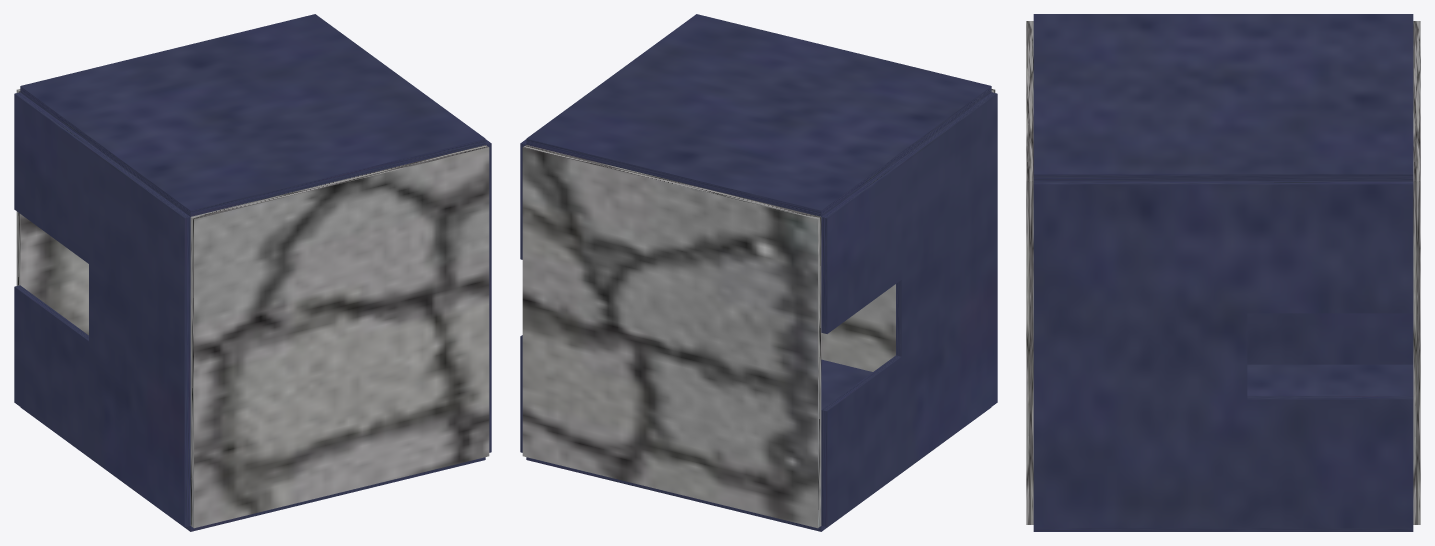
File: procedural-mimitasizing5-infdgnslr-v4.glb
3 views of the same model, side by side, from view 1: azimuth 30°, elevation 25°; view 2: azimuth 150°, elevation 25°; view 3: azimuth 270°, elevation 25° (orthographic). The views are drawn at different scales.
Parts seen in each view (by area): view 1: floor.001, wallPositiveY, wallNegativeX, floor, wallNegativeY, wallNegativeX.001; view 2: floor, wallPositiveY, wallNegativeX, floor.001, wallNegativeY, wallNegativeX.001; view 3: wallNegativeX.001, wallPositiveY, wallNegativeX, wallNegativeY, floor, floor.001.
Boxes of the visible parts, <box> form: floor.001: <box>190,145,489,528</box>; wallPositiveY: <box>20,14,485,216</box>; wallNegativeX: <box>14,92,190,526</box>; floor: <box>16,89,88,335</box>; wallNegativeY: <box>20,407,485,531</box>; wallNegativeX.001: <box>485,139,491,452</box>; floor: <box>522,145,821,528</box>; wallPositiveY: <box>526,14,991,216</box>; wallNegativeX: <box>821,92,997,526</box>; floor.001: <box>821,89,995,371</box>; wallNegativeY: <box>526,359,991,531</box>; wallNegativeX.001: <box>520,139,526,452</box>; wallNegativeX.001: <box>1033,181,1413,528</box>; wallPositiveY: <box>1033,14,1413,181</box>; wallNegativeX: <box>1247,313,1413,364</box>; wallNegativeY: <box>1033,364,1413,531</box>; floor: <box>1413,21,1420,524</box>; floor.001: <box>1026,21,1033,524</box>.
Size of the model in its own units: 104 by 104 by 104.
Materials: 4 (4 with a texture image).
